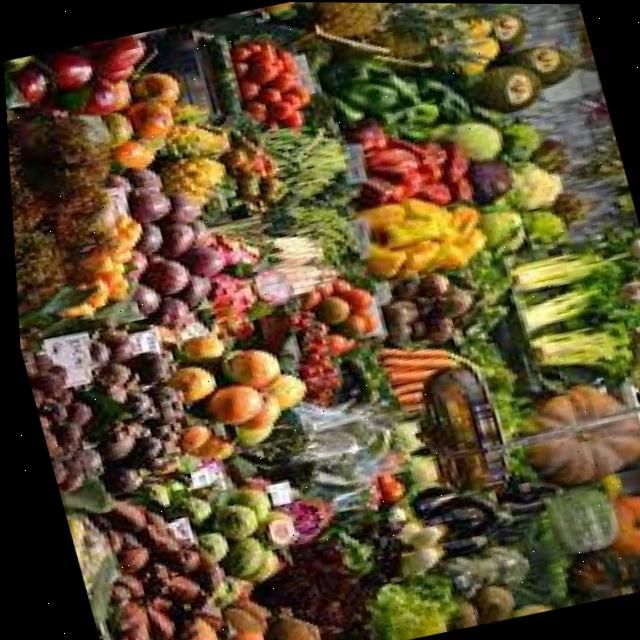Wet: (0, 0, 640, 640), (148, 314, 328, 475), (435, 3, 606, 130)
